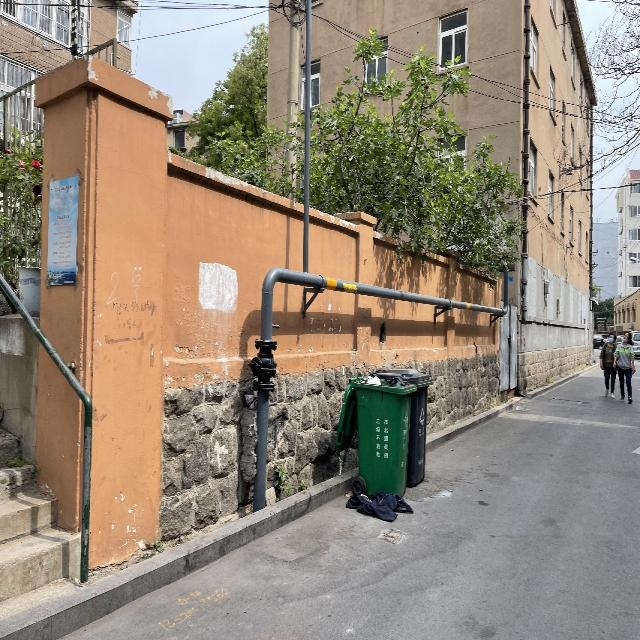garbage: (344, 491, 412, 521)
garbage_bin: (374, 367, 433, 487)
overflow: (336, 374, 416, 497)
